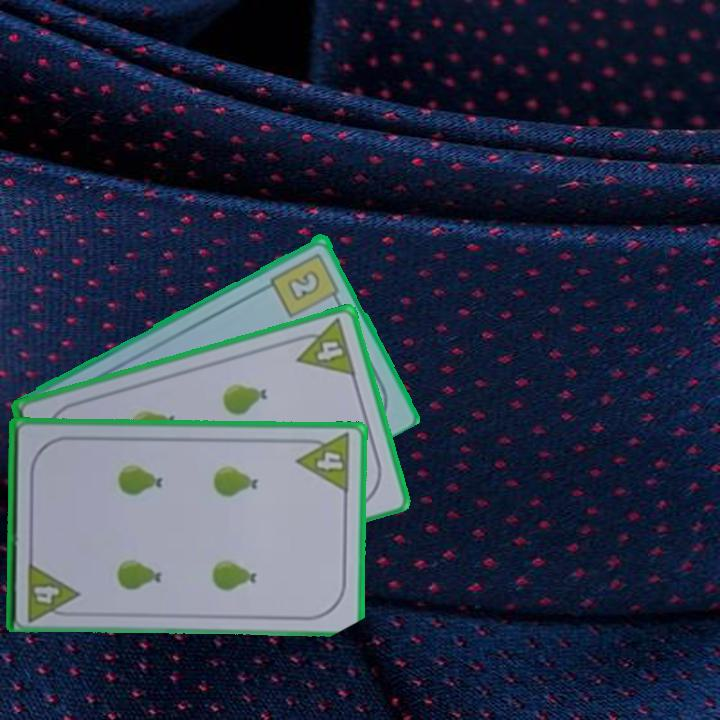2b: (267, 249, 343, 320)
4p: (288, 315, 359, 379), (294, 430, 353, 495), (23, 557, 81, 623)
